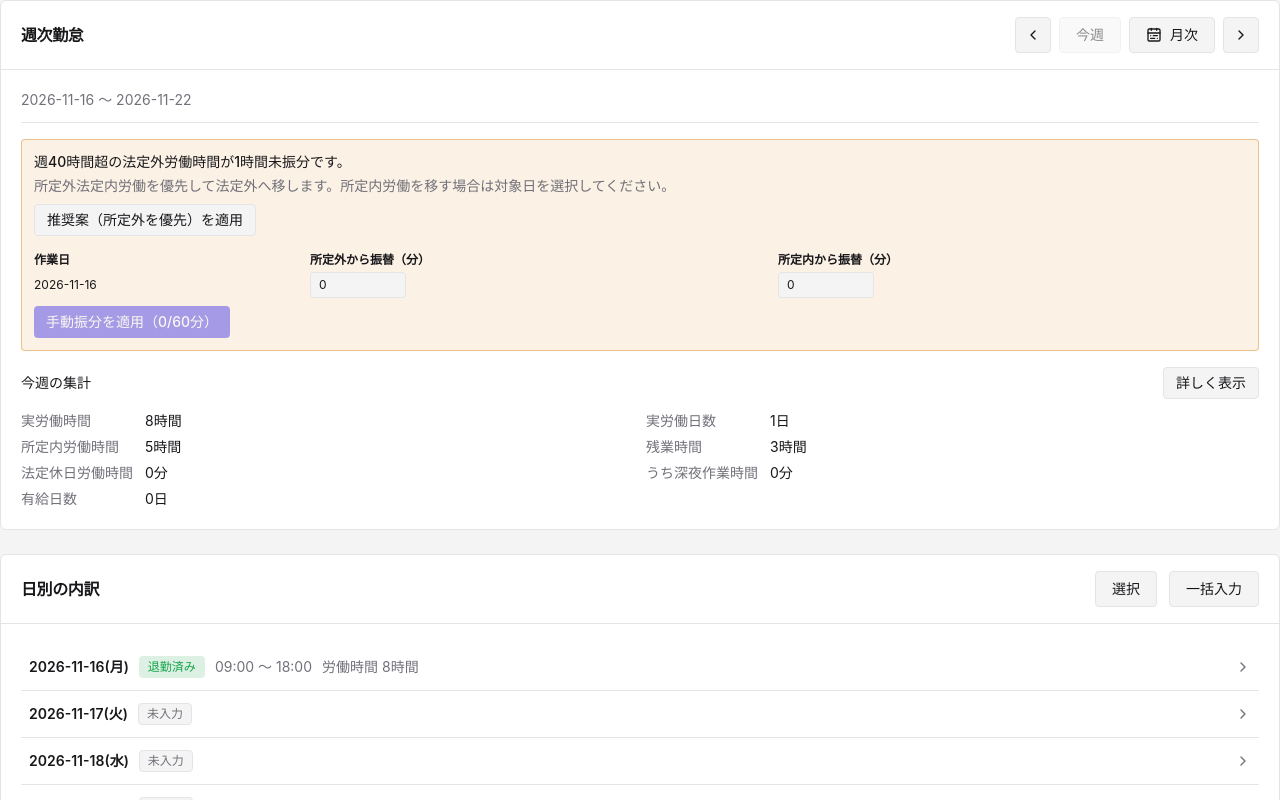
Scenario: WeekAttendancePage › weekly overtime allocation › does not show the success toast and shows the error when saving fails
The image size is (1280, 800).
Step 1. Replace the text in the 1st number field with "60" → (358, 285), box [310,272,406,298]
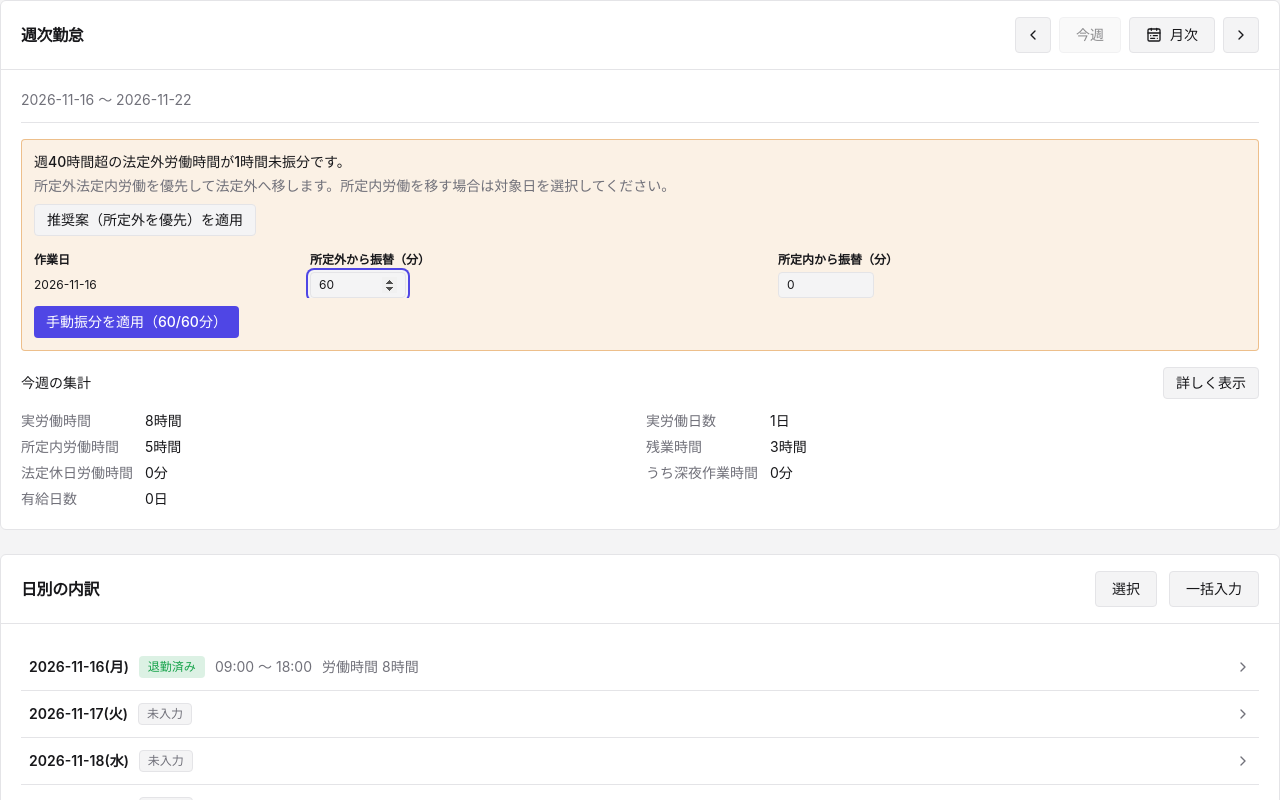
Step 2. Click the button "手動振分を適用（60/60分）" → (136, 322), box [34,306,239,338]
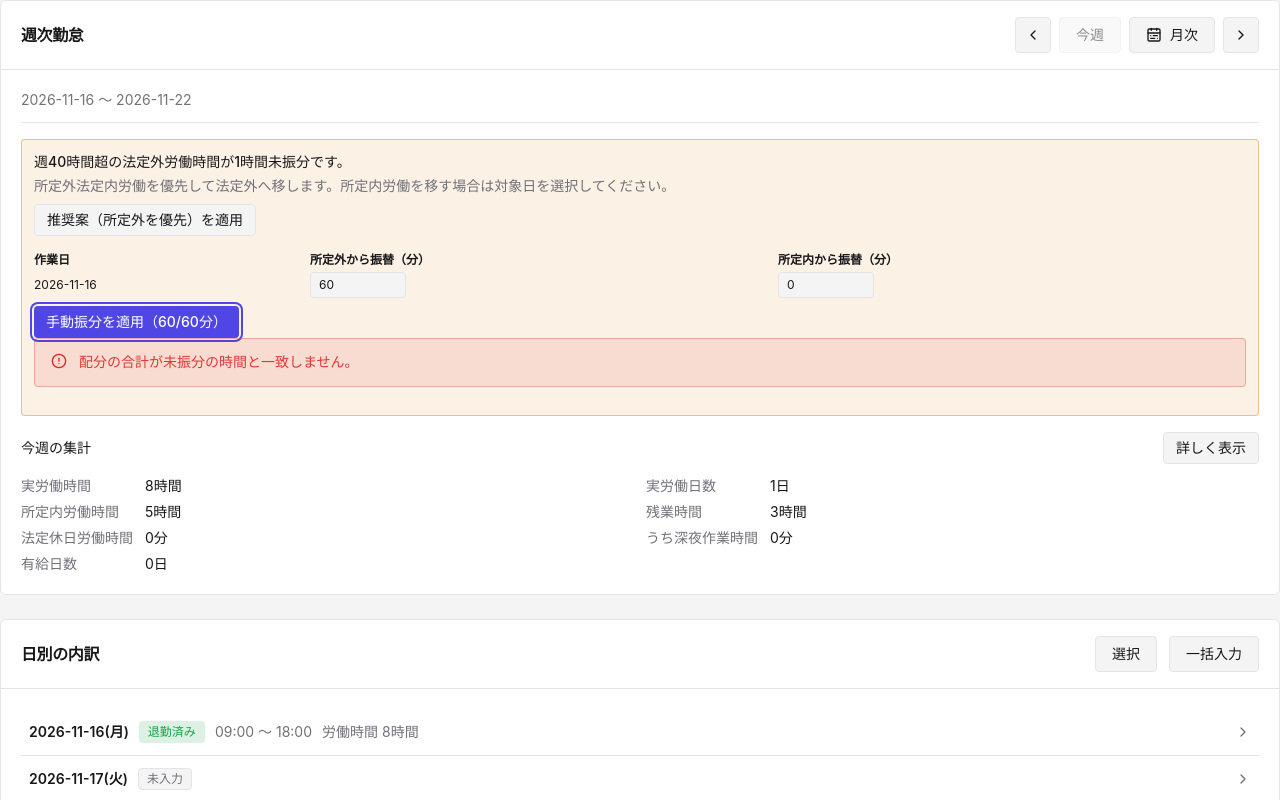
Expected: the text "配分の合計が未振分の時間と一致しません。" is shown, [34,338,1246,387]
